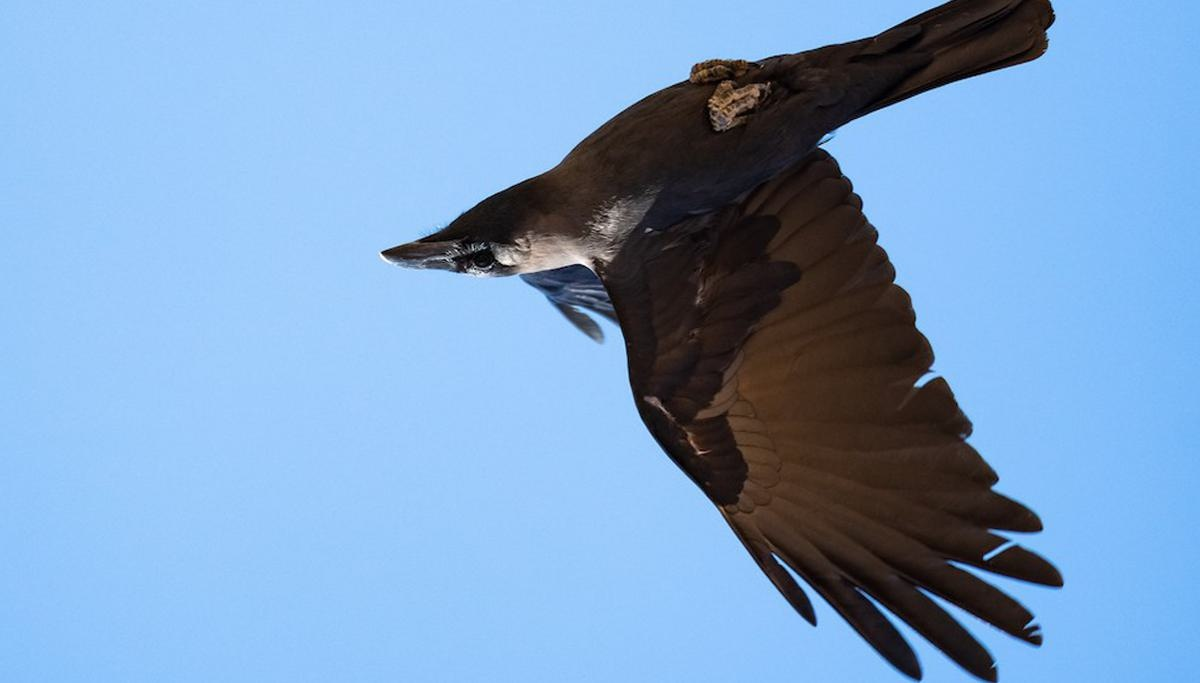crow: (377, 1, 1076, 629)
